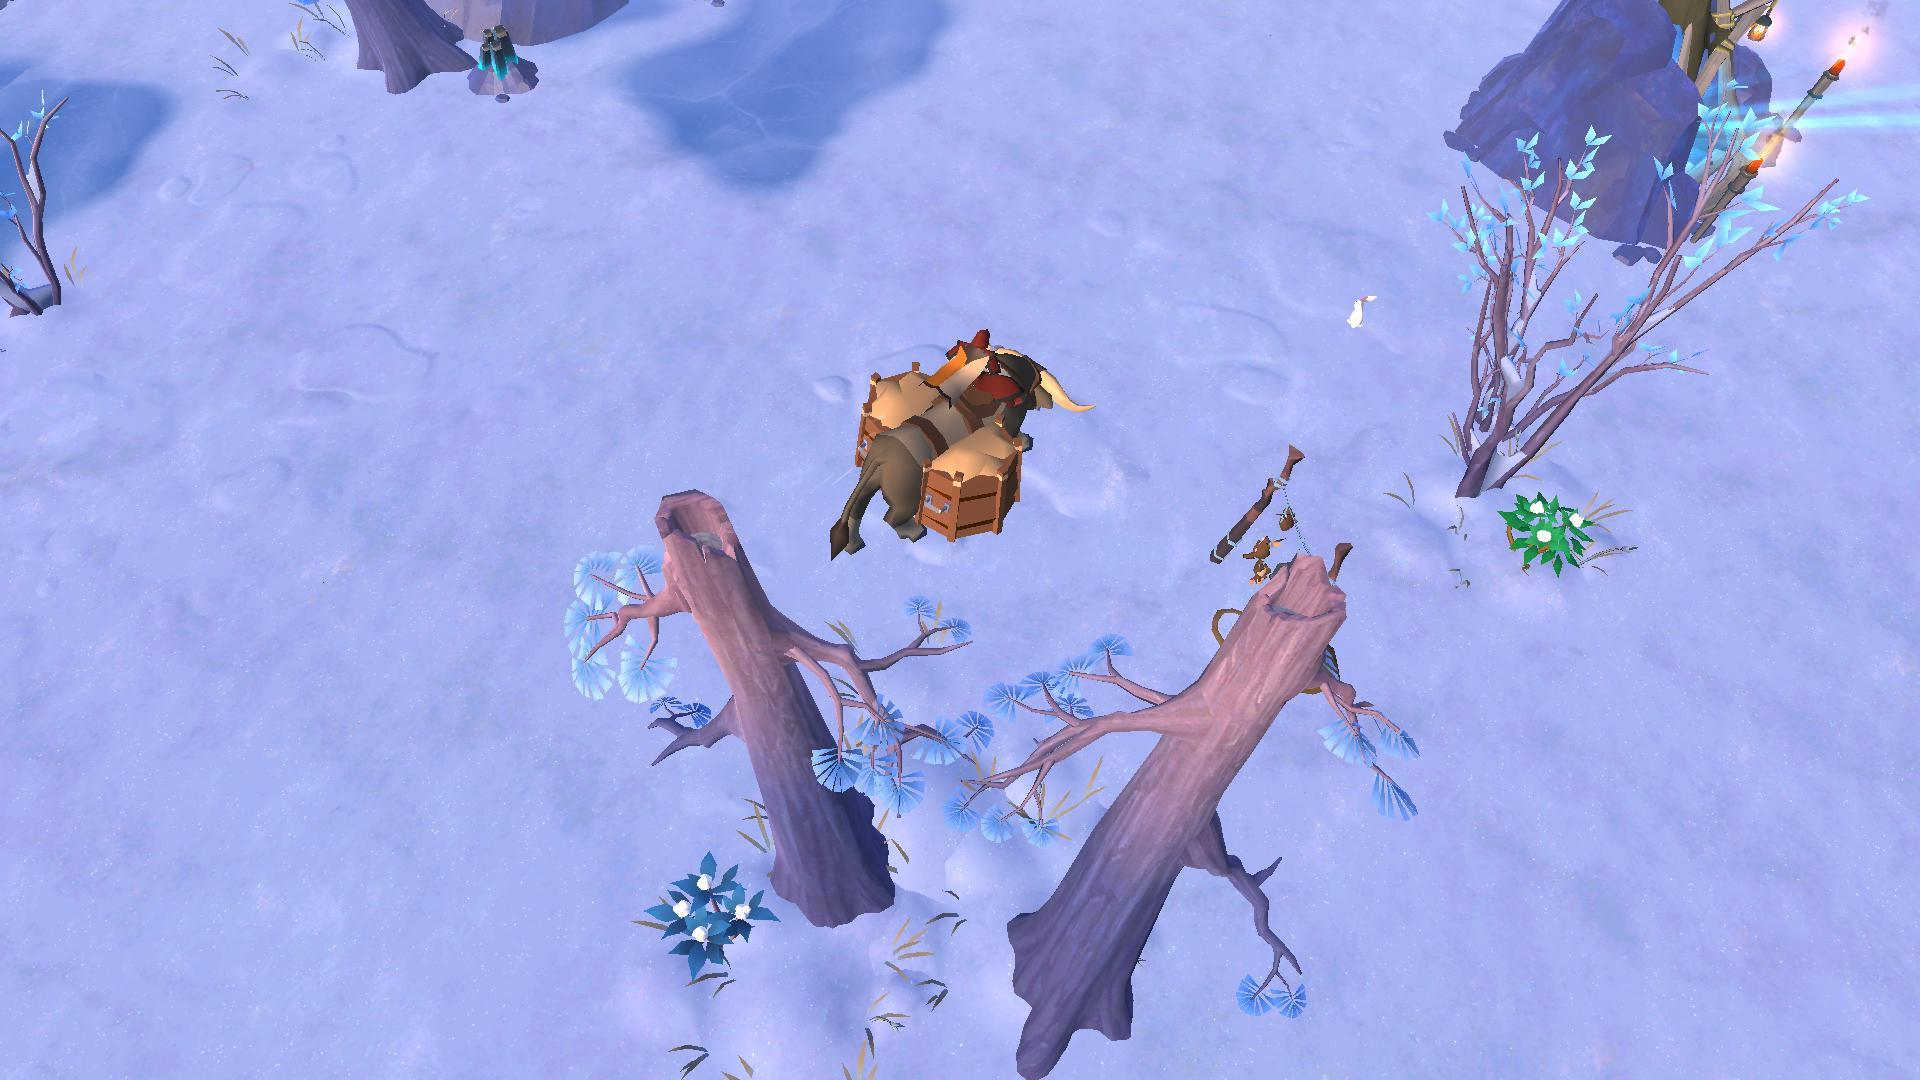fiber_t3: (1495, 491, 1590, 570)
fiber_t4: (640, 847, 766, 971)
ore_t4: (475, 21, 520, 94)
